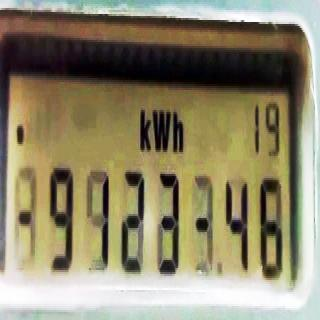-: (17, 198, 33, 236), (196, 205, 210, 245), (16, 120, 24, 148)
1: (100, 174, 112, 272), (253, 98, 261, 161)
2: (117, 151, 146, 280)
3: (158, 165, 181, 283)
4: (224, 170, 250, 282)
6: (259, 165, 283, 285)
9: (49, 158, 75, 282), (265, 100, 281, 163)
